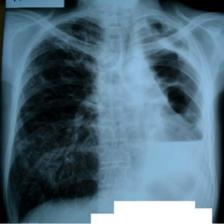tuberculosis: (0, 12, 215, 224)
